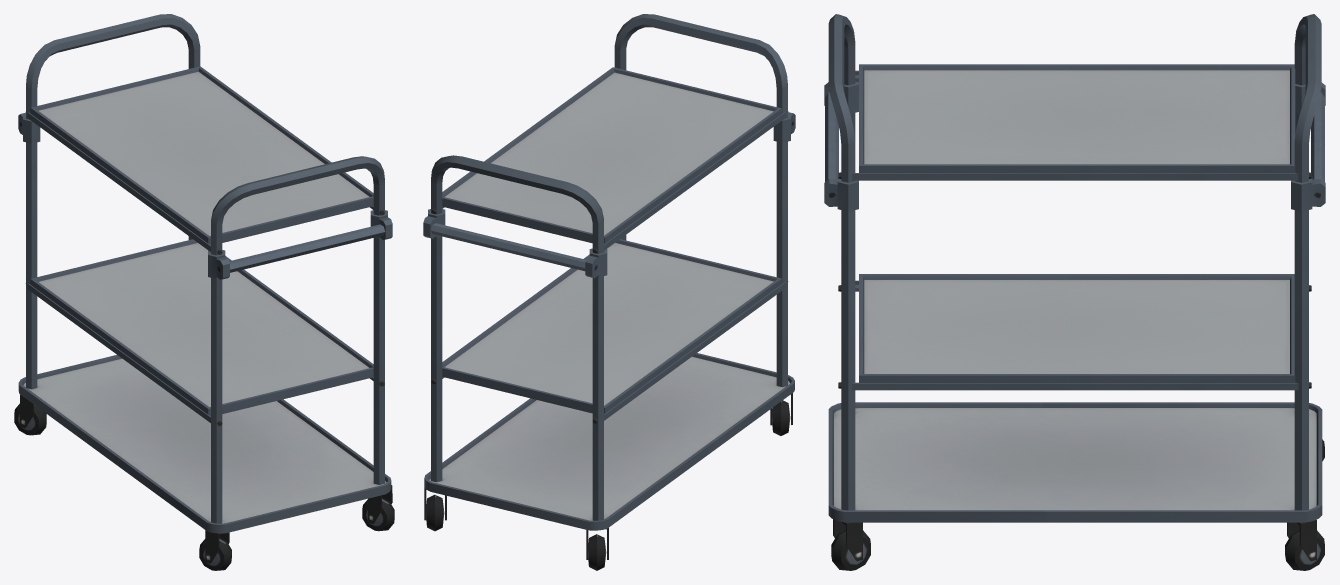
File: Trolley.fbx
3 views of the same model, side by side, from view 1: azimuth 30°, elevation 25°; view 2: azimuth 150°, elevation 25°; view 3: azimuth 270°, elevation 25° (orthographic). The views are drawn at different scales.
Parts seen in each view (by area): view 1: Trolley; view 2: Trolley; view 3: Trolley.
Boxes of the visible parts, x1,y1,x2,y2 form: Trolley: (14,14,394,570); Trolley: (423,14,795,570); Trolley: (824,14,1325,570).
Size of the model in its own units: 40.77 by 80.16 by 77.16.
Materials: 1 (1 with a texture image).
